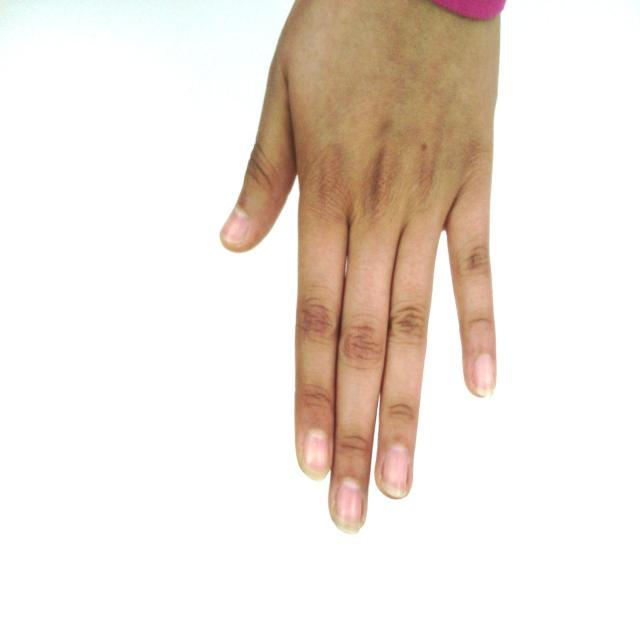Fingernail: (336, 479, 363, 533), (382, 445, 409, 497), (304, 430, 329, 480), (223, 208, 249, 243), (473, 354, 494, 396)
